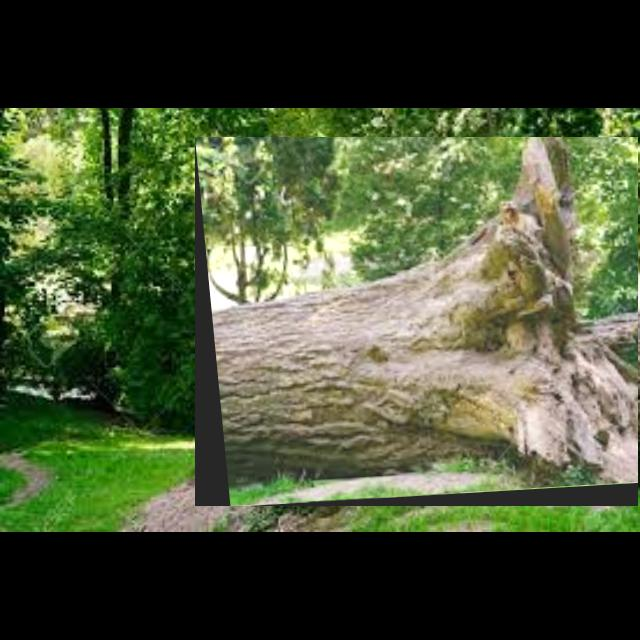Fallen Tree: (195, 137, 639, 507)
